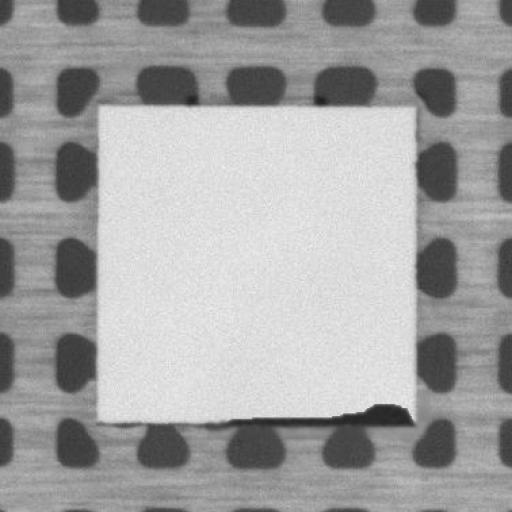DIE_BROKEN: (227, 394, 416, 428)
